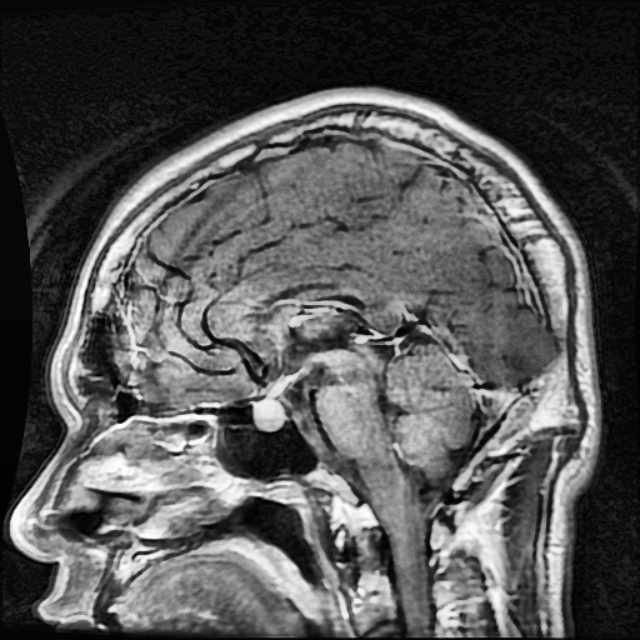Pituitary: (254, 399, 283, 430)
